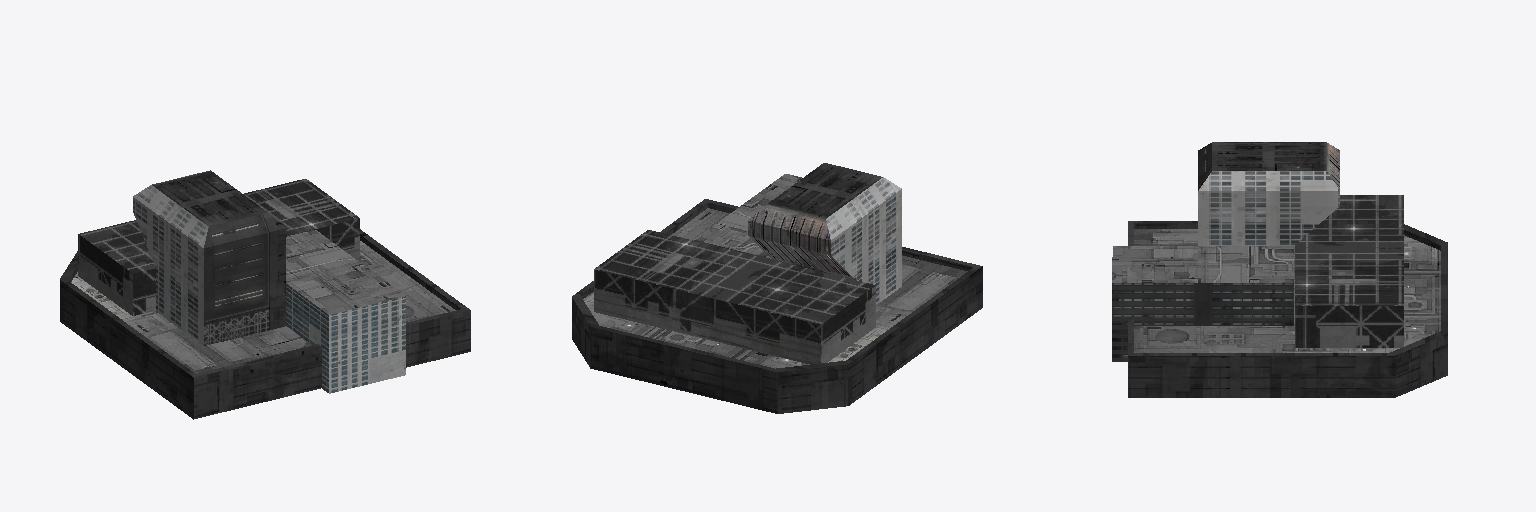
3 renders of one model, left to right at view 1: azimuth 30°, elevation 25°; view 2: azimuth 150°, elevation 25°; view 3: azimuth 270°, elevation 25°, orthographic.
Visible parts, largest first — view 1: building_55; view 2: building_55; view 3: building_55.
Boxes of the visible parts, box(x1,y1,x2,y2) form: building_55: box(60, 170, 470, 419); building_55: box(572, 163, 982, 413); building_55: box(1112, 142, 1447, 397).
Bounding box in the file's own units: 155 × 79.21 × 163.
1 materials, 1 textured.